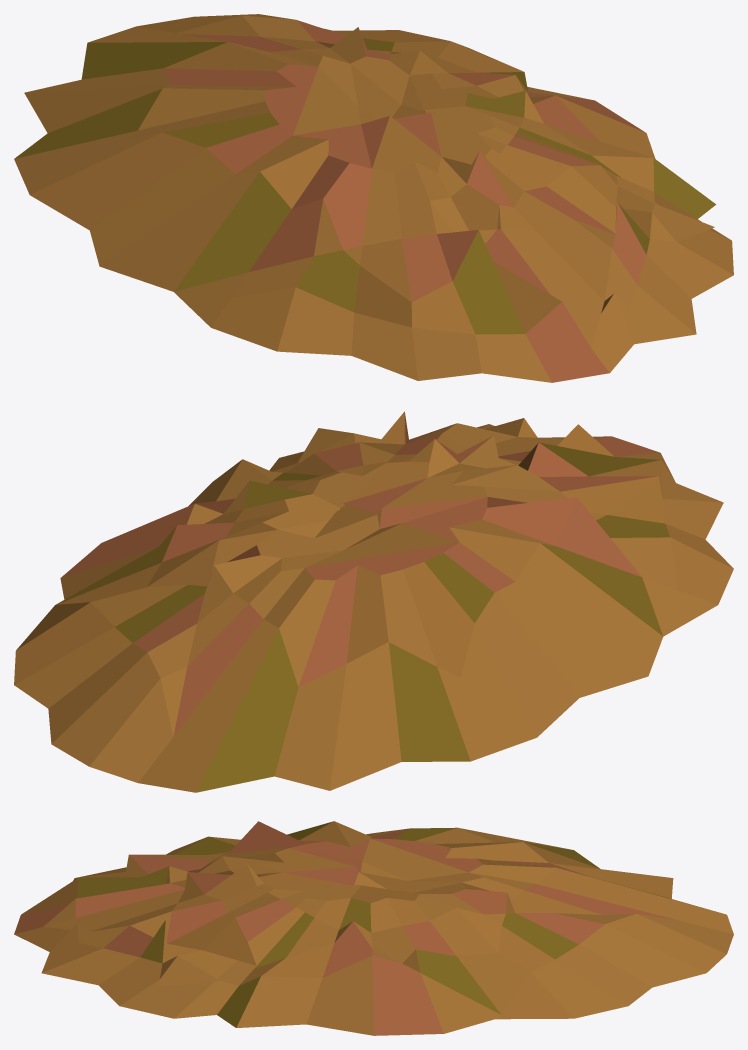
The model's file is Puke.glb.
3 views of the same model, one above another, from view 1: azimuth 30°, elevation 25°; view 2: azimuth 150°, elevation 25°; view 3: azimuth 270°, elevation 25° (orthographic). The views are drawn at different scales.
Parts seen in each view (by area): view 1: Cylinder; view 2: Cylinder; view 3: Cylinder.
Part boxes in pixels (box(x1,y1,x2,y2)): Cylinder: box(14, 14, 733, 382); Cylinder: box(14, 411, 733, 792); Cylinder: box(14, 821, 733, 1035).
Bounding box in the file's own units: 0.2 × 0.0364 × 0.3.
